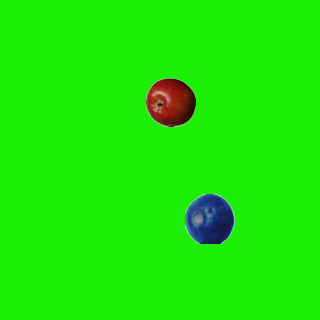Apple Braeburn: (145, 77, 195, 127)
Huckleberry: (184, 193, 234, 243)
